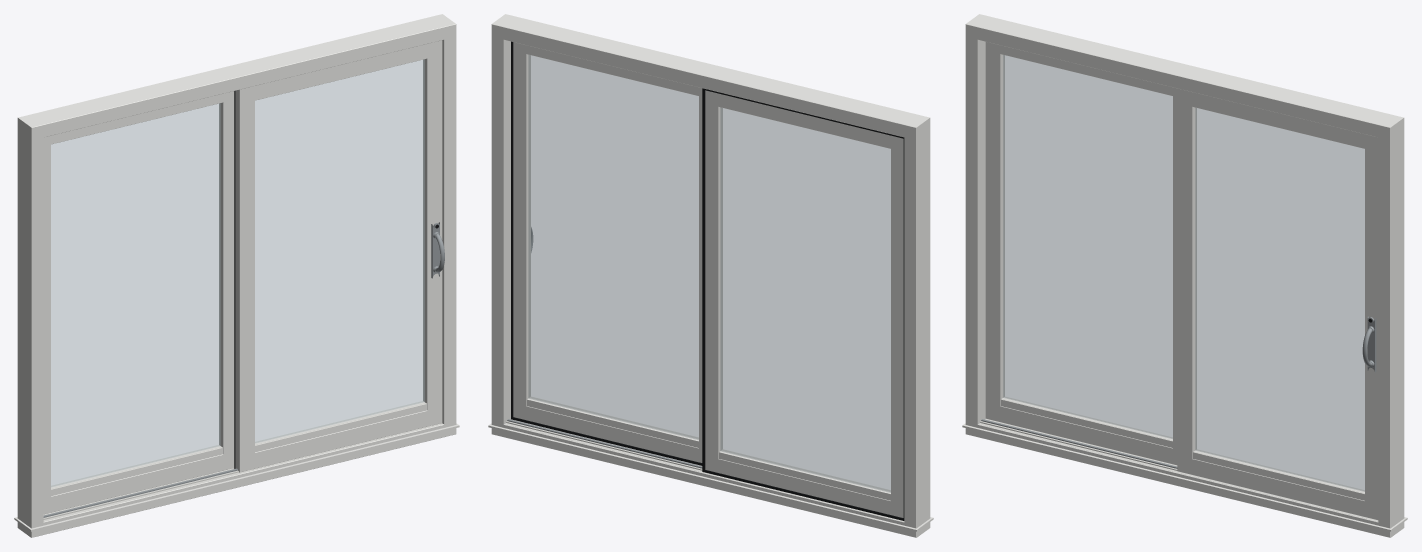
File: sliding-door.glb
3 renders of one model, left to right at view 1: azimuth 30°, elevation 25°; view 2: azimuth 150°, elevation 25°; view 3: azimuth 330°, elevation 25°, orthographic.
Parts seen in each view (by area): view 1: glass_fixed, glass_operable, frame, panel_operable, panel_fixed, panel_operable_bottom_rail, panel_fixed_bottom_rail, threshold_nose, threshold_plate, panel_operable_weatherstrip, track_rail_inner, track_rail_inner_channel; view 2: glass_fixed, glass_operable, frame, panel_fixed, panel_operable, panel_fixed_weatherstrip, panel_operable_weatherstrip, panel_operable_bottom_rail, panel_fixed_bottom_rail, threshold_nose, threshold_plate, track_rail_outer (+1 smaller); view 3: glass_fixed, glass_operable, frame, panel_operable, panel_fixed, panel_operable_bottom_rail, panel_fixed_bottom_rail, threshold_nose, threshold_plate, track_rail_inner, track_rail_inner_channel.
Part boxes in pixels (x1=…): glass_fixed: x1=51, y1=103, x2=220, y2=487; glass_operable: x1=255, y1=59, x2=424, y2=443; frame: x1=17, y1=14, x2=456, y2=537; panel_operable: x1=235, y1=40, x2=442, y2=472; panel_fixed: x1=43, y1=91, x2=234, y2=514; panel_operable_bottom_rail: x1=255, y1=401, x2=426, y2=452; panel_fixed_bottom_rail: x1=51, y1=445, x2=222, y2=496; threshold_nose: x1=14, y1=423, x2=459, y2=531; threshold_plate: x1=43, y1=423, x2=443, y2=521; panel_operable_weatherstrip: x1=234, y1=91, x2=235, y2=468; track_rail_inner: x1=43, y1=468, x2=237, y2=517; track_rail_inner_channel: x1=43, y1=470, x2=238, y2=519; glass_fixed: x1=720, y1=107, x2=890, y2=492; glass_operable: x1=528, y1=55, x2=698, y2=439; frame: x1=491, y1=14, x2=930, y2=537; panel_fixed: x1=705, y1=90, x2=903, y2=517; panel_operable: x1=513, y1=42, x2=702, y2=462; panel_fixed_weatherstrip: x1=702, y1=88, x2=904, y2=520; panel_operable_weatherstrip: x1=511, y1=41, x2=702, y2=465; panel_operable_bottom_rail: x1=527, y1=397, x2=698, y2=447; panel_fixed_bottom_rail: x1=719, y1=450, x2=890, y2=500; threshold_nose: x1=488, y1=423, x2=933, y2=531; threshold_plate: x1=504, y1=419, x2=904, y2=521; track_rail_outer: x1=507, y1=419, x2=702, y2=468; glass_fixed: x1=1003, y1=55, x2=1172, y2=438; glass_operable: x1=1195, y1=108, x2=1364, y2=491; frame: x1=965, y1=14, x2=1404, y2=537; panel_operable: x1=1177, y1=88, x2=1378, y2=520; panel_fixed: x1=985, y1=42, x2=1177, y2=465; panel_operable_bottom_rail: x1=1193, y1=449, x2=1364, y2=500; panel_fixed_bottom_rail: x1=1001, y1=396, x2=1172, y2=447; threshold_nose: x1=962, y1=423, x2=1407, y2=531; threshold_plate: x1=978, y1=419, x2=1378, y2=521; track_rail_inner: x1=981, y1=419, x2=1177, y2=468; track_rail_inner_channel: x1=980, y1=421, x2=1177, y2=470.
Size of the model in its own units: 2.63 by 2.4 by 0.2339.
